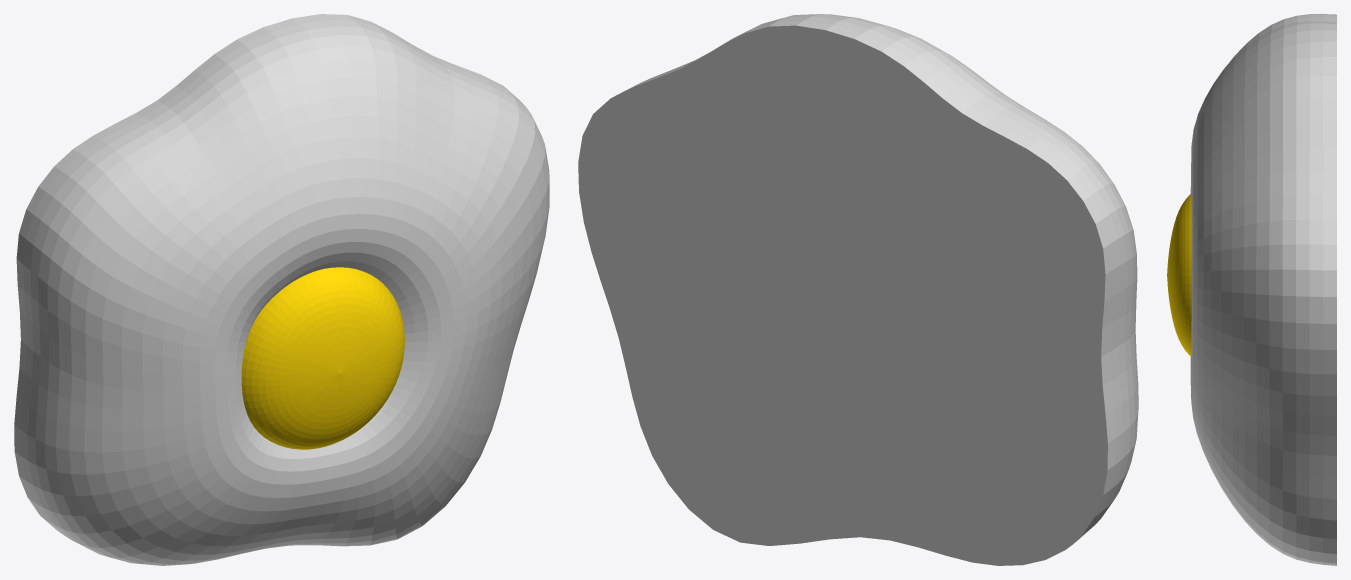
File: topping_fried_egg.glb
3 views of the same model, side by side, from view 1: azimuth 30°, elevation 25°; view 2: azimuth 150°, elevation 25°; view 3: azimuth 270°, elevation 25° (orthographic). The views are drawn at different scales.
Parts seen in each view (by area): view 1: Plane.269; view 2: Plane.269; view 3: Plane.269.
Boxes of the visible parts, x1,y1,x2,y2 form: Plane.269: (14, 14, 549, 565); Plane.269: (578, 14, 1138, 565); Plane.269: (1167, 14, 1336, 565).
Size of the model in its own units: 10 by 9.6 by 3.08.
